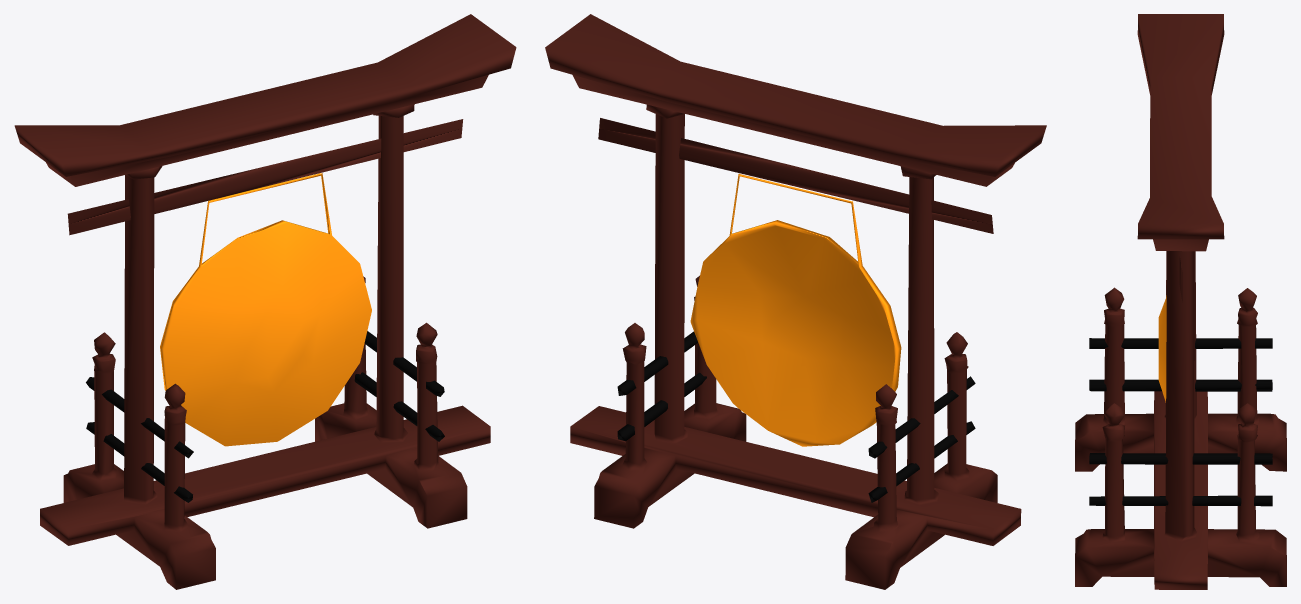
3 views of the same model, side by side, from view 1: azimuth 30°, elevation 25°; view 2: azimuth 150°, elevation 25°; view 3: azimuth 270°, elevation 25° (orthographic). The views are drawn at different scales.
Visible parts, largest first — view 1: AsianGong.001; view 2: AsianGong.001; view 3: AsianGong.001.
Part boxes in pixels (bbox=[...]): AsianGong.001: bbox=[14, 14, 516, 589]; AsianGong.001: bbox=[545, 14, 1046, 589]; AsianGong.001: bbox=[1075, 14, 1286, 589].
Size of what is drawn, in the model's own units: 2.97 by 2.65 by 1.27.
2 materials, 2 textured.
